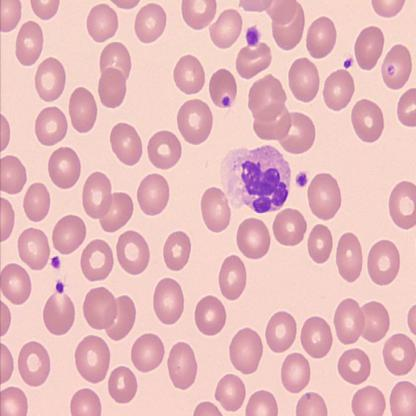Segmented neutrophil: (220, 143, 293, 216)
